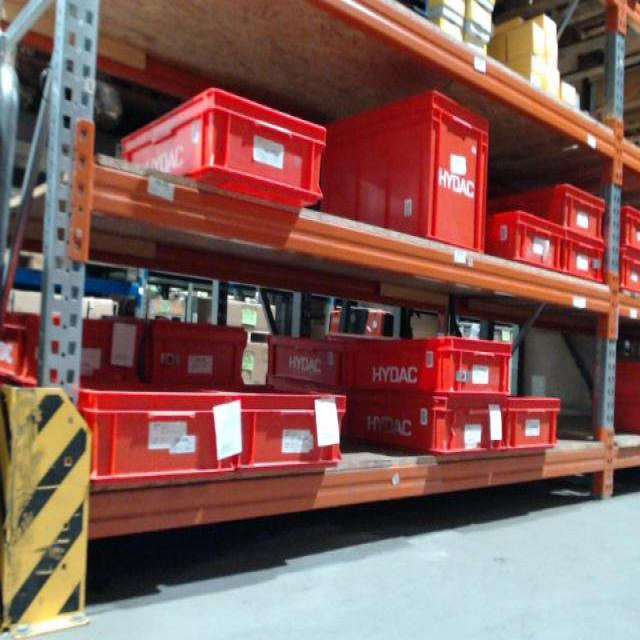small_load_carrier: (306, 83, 493, 257), (111, 82, 328, 213), (77, 386, 237, 489), (342, 389, 508, 460), (0, 312, 144, 386), (144, 315, 258, 392), (343, 340, 516, 389), (234, 395, 343, 470), (484, 175, 610, 239), (266, 328, 369, 385), (481, 209, 561, 275), (505, 386, 570, 464), (554, 240, 610, 281), (611, 199, 638, 253), (615, 253, 638, 298)
